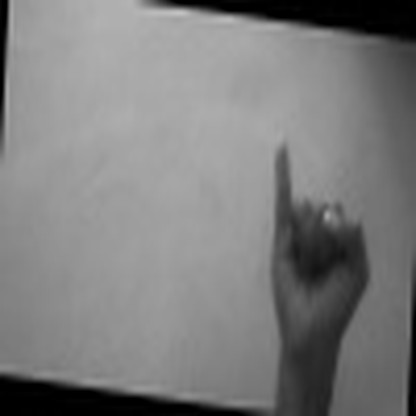i: (246, 123, 378, 348)
